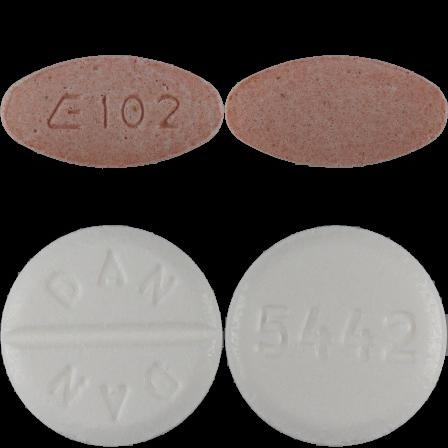51655-408: (0, 0, 224, 224)
